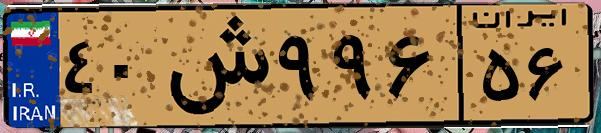0: (110, 28, 158, 98)
4: (57, 26, 110, 100)
5: (475, 38, 525, 113)
6: (385, 28, 445, 110), (525, 38, 570, 115)
9: (270, 28, 330, 110), (330, 28, 385, 110)
ش: (158, 12, 270, 120)
